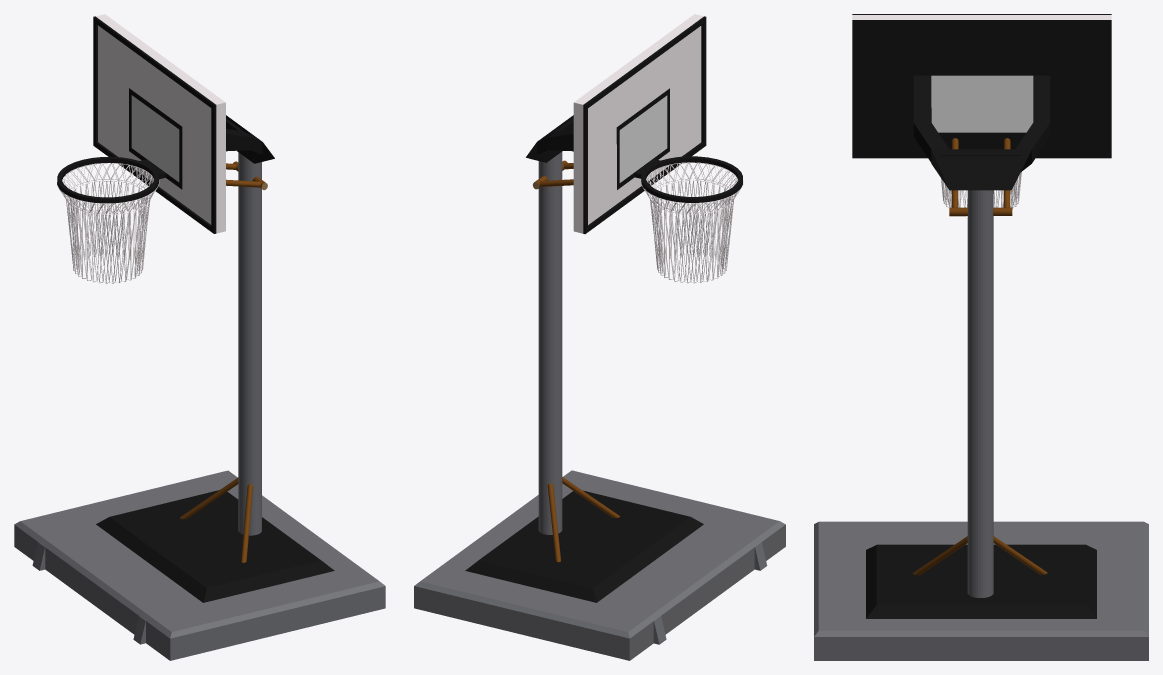
The model's file is basketball.fbx.
3 views of the same model, side by side, from view 1: azimuth 30°, elevation 25°; view 2: azimuth 150°, elevation 25°; view 3: azimuth 270°, elevation 25° (orthographic). The views are drawn at different scales.
Parts seen in each view (by area): view 1: Cube; view 2: Cube; view 3: Cube.
Part boxes in pixels (x1=…): Cube: x1=14, y1=14, x2=385, y2=660; Cube: x1=414, y1=14, x2=785, y2=660; Cube: x1=814, y1=14, x2=1148, y2=660.
Bounding box in the file's own units: 397 × 819 × 439.
